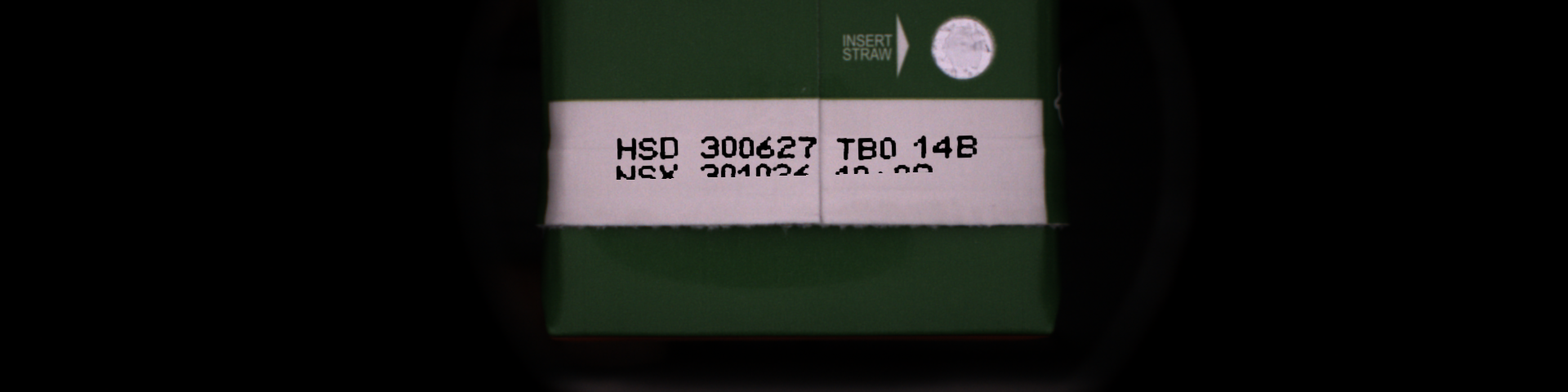date: (954, 133, 980, 162), (930, 132, 955, 161), (657, 161, 682, 190), (796, 133, 821, 161), (636, 134, 660, 163), (612, 162, 637, 189), (833, 134, 857, 162), (911, 161, 935, 189), (792, 160, 815, 189), (614, 134, 637, 162), (775, 133, 798, 161), (856, 135, 878, 163), (698, 161, 720, 189), (770, 160, 792, 188), (755, 134, 776, 162), (877, 135, 899, 161), (699, 133, 720, 160), (636, 162, 657, 189), (659, 133, 679, 161), (719, 133, 738, 162), (719, 160, 738, 188), (753, 160, 772, 188), (892, 162, 911, 190), (912, 133, 930, 162), (851, 163, 871, 189), (738, 134, 755, 161), (834, 163, 851, 190), (737, 161, 753, 188), (873, 164, 888, 187)
